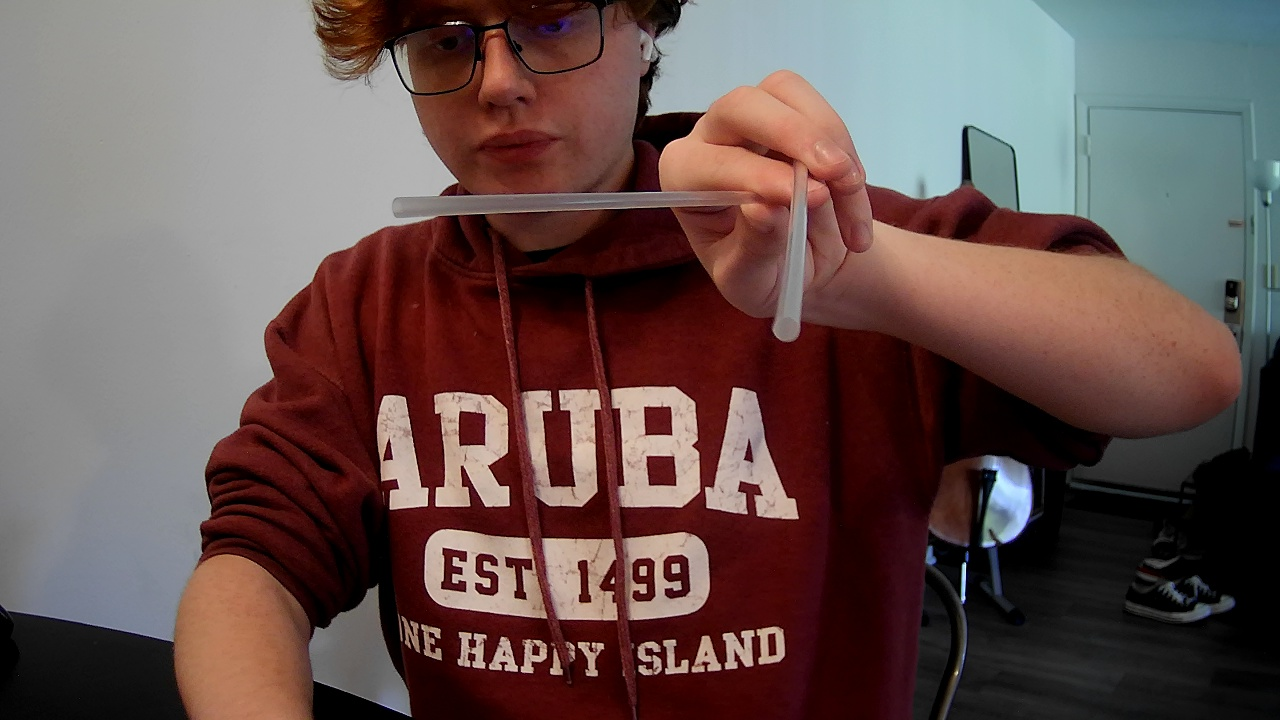trash: (385, 183, 790, 226), (763, 166, 834, 338)
